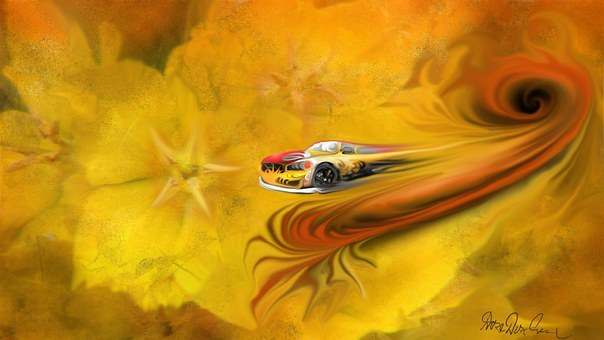car: (254, 134, 409, 194)
